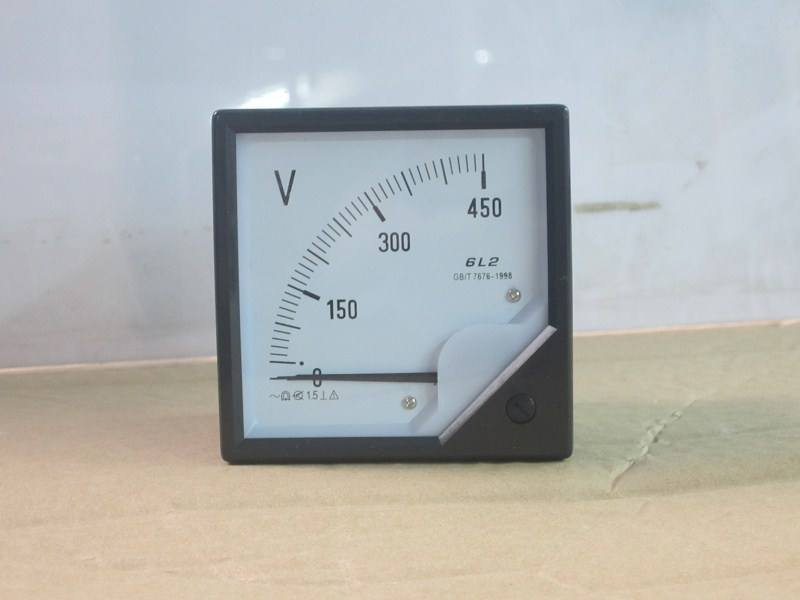pointer: (234, 128, 548, 433)
